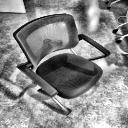chair_success: (10, 12, 113, 116)
